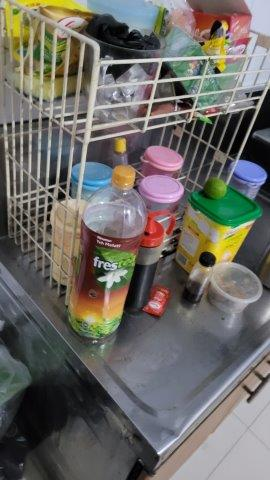botolplastik: (68, 164, 148, 343)
